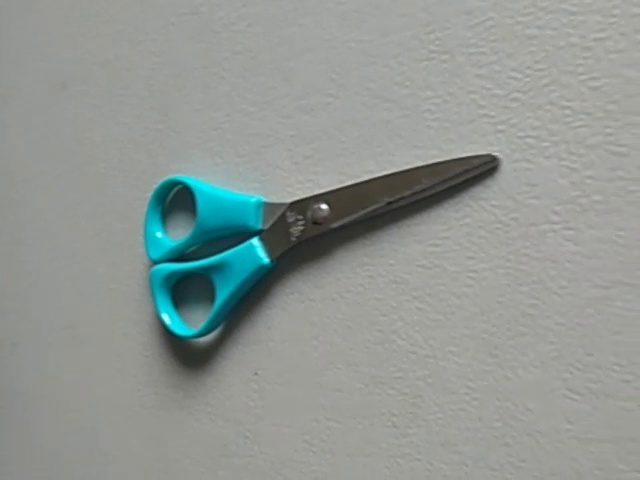Sizer: (127, 119, 515, 363)
